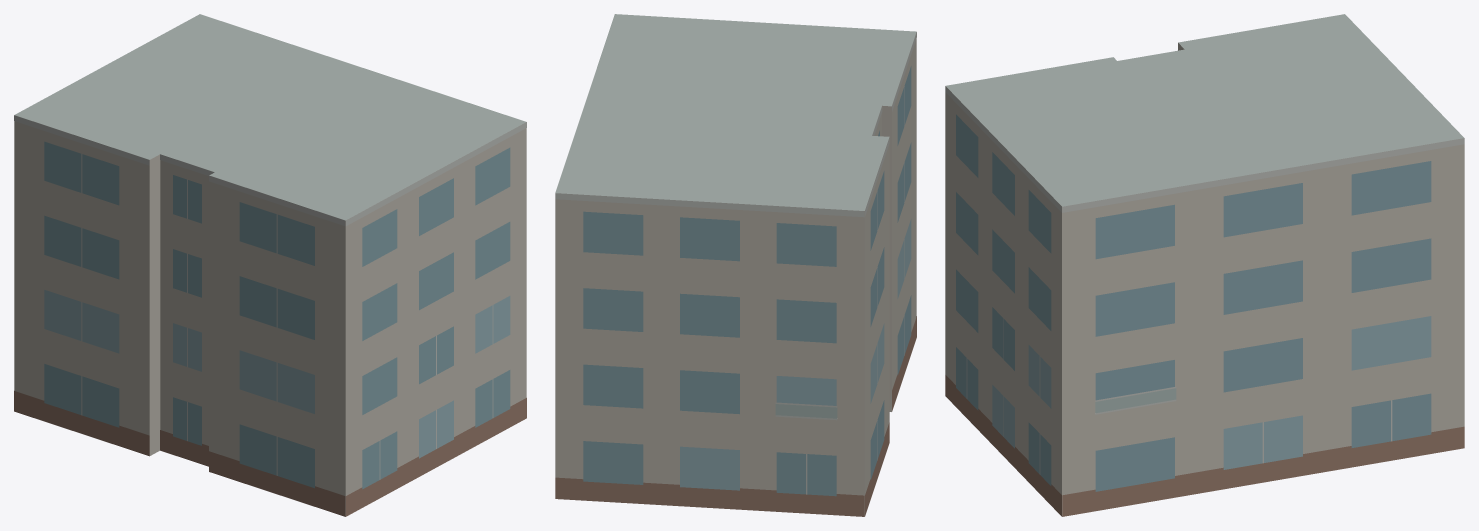
The model's file is survey-upis-32772942.glb.
3 views of the same model, side by side, from view 1: azimuth 30°, elevation 25°; view 2: azimuth 150°, elevation 25°; view 3: azimuth 270°, elevation 25° (orthographic). The views are drawn at different scales.
Parts seen in each view (by area): view 1: survey-upis-32772942.tmp; view 2: survey-upis-32772942.tmp; view 3: survey-upis-32772942.tmp.
Part boxes in pixels (x1,y1,x2,y2): survey-upis-32772942.tmp: (14, 14, 526, 516); survey-upis-32772942.tmp: (555, 14, 916, 516); survey-upis-32772942.tmp: (945, 14, 1464, 516).
Bounding box in the file's own units: 16.27 × 12.2 × 18.52.
